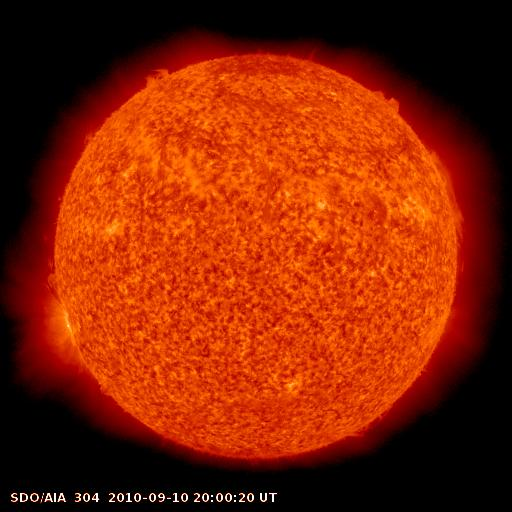prominence: (427, 145, 470, 259), (36, 239, 70, 312), (371, 80, 410, 123), (138, 59, 180, 92), (73, 122, 109, 153)
